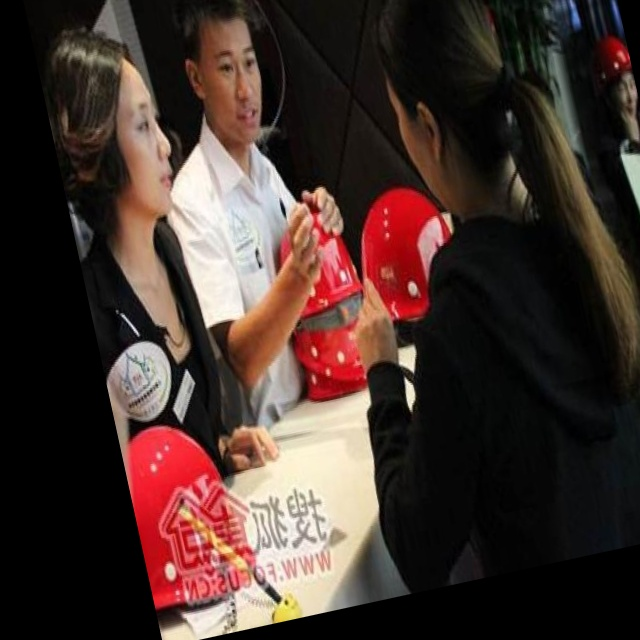Sin_Casco_Mascarrilla: (40, 18, 180, 230), (164, 0, 271, 144)
